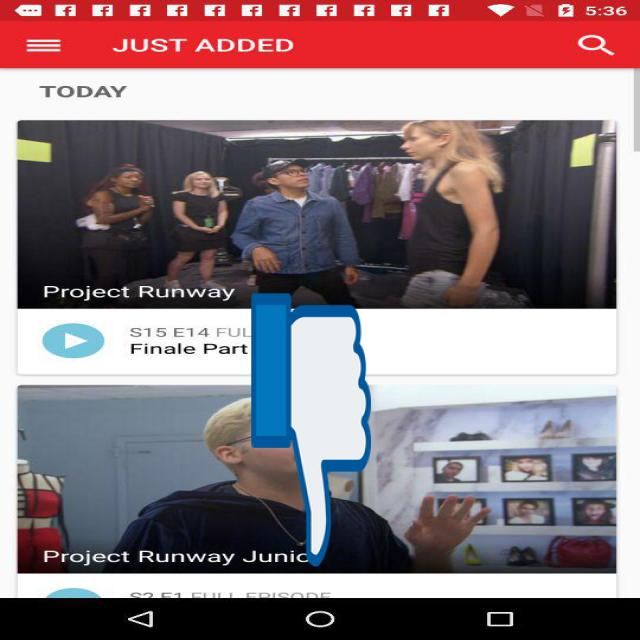obstruction: (251, 287, 371, 573)
